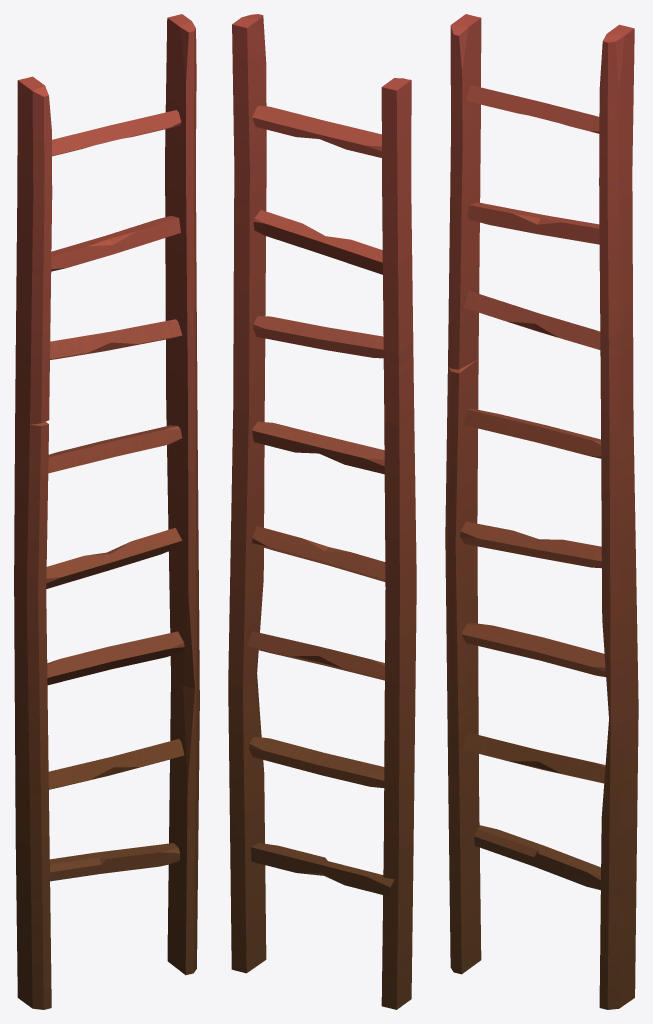
3 renders of one model, left to right at view 1: azimuth 30°, elevation 25°; view 2: azimuth 150°, elevation 25°; view 3: azimuth 330°, elevation 25°, orthographic. The views are drawn at different scales.
Visible parts, largest first — view 1: Ladder; view 2: Ladder; view 3: Ladder.
Boxes of the visible parts, left/top/right/bottom form: Ladder: left=14, top=14, right=199, bottom=1009; Ladder: left=228, top=14, right=416, bottom=1009; Ladder: left=445, top=14, right=638, bottom=1009.
Bounding box in the file's own units: 57.85 × 300 × 13.63.
Materials: 1 (1 with a texture image).
